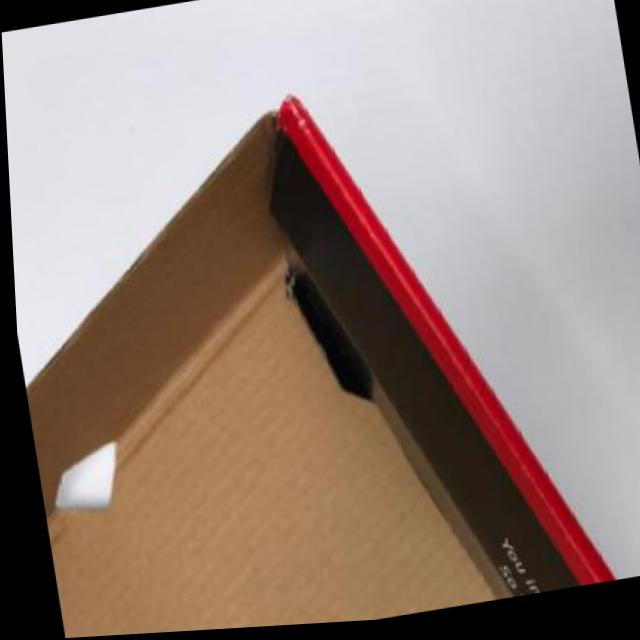box: (3, 48, 633, 640)
